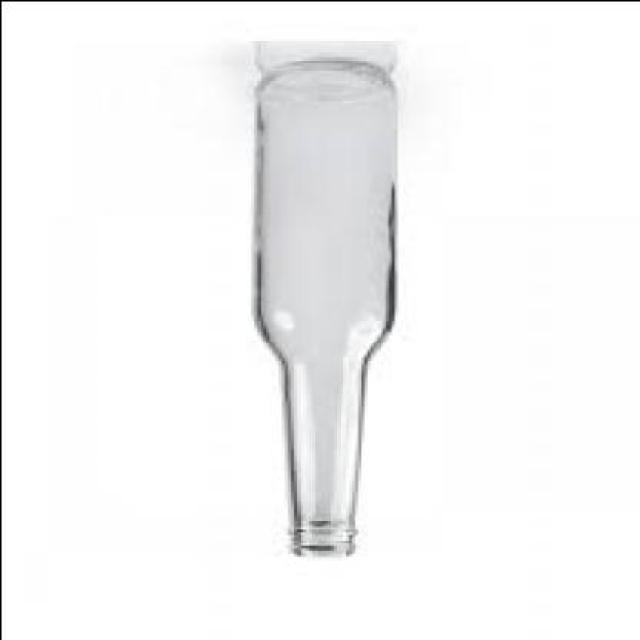GLASS: (250, 58, 390, 560)
